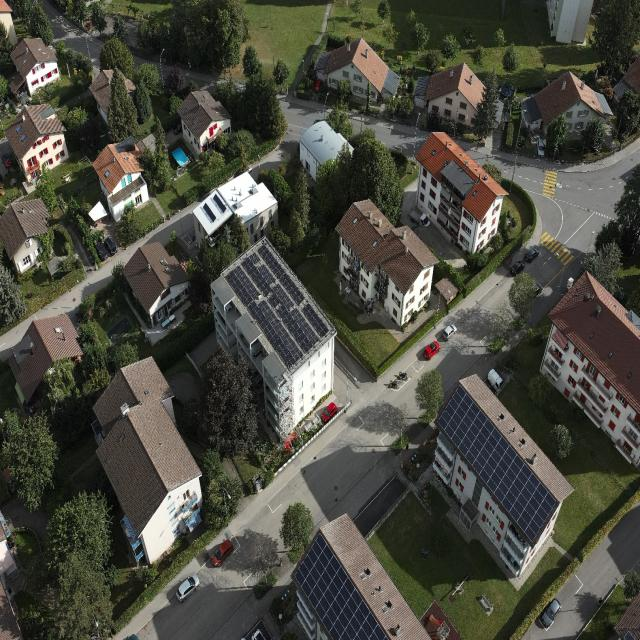panneaux_solaires: (437, 384, 558, 542), (224, 244, 329, 370), (294, 531, 394, 640), (213, 194, 227, 213), (202, 204, 216, 222)
passage_pieton: (539, 230, 574, 266), (542, 170, 558, 198)
